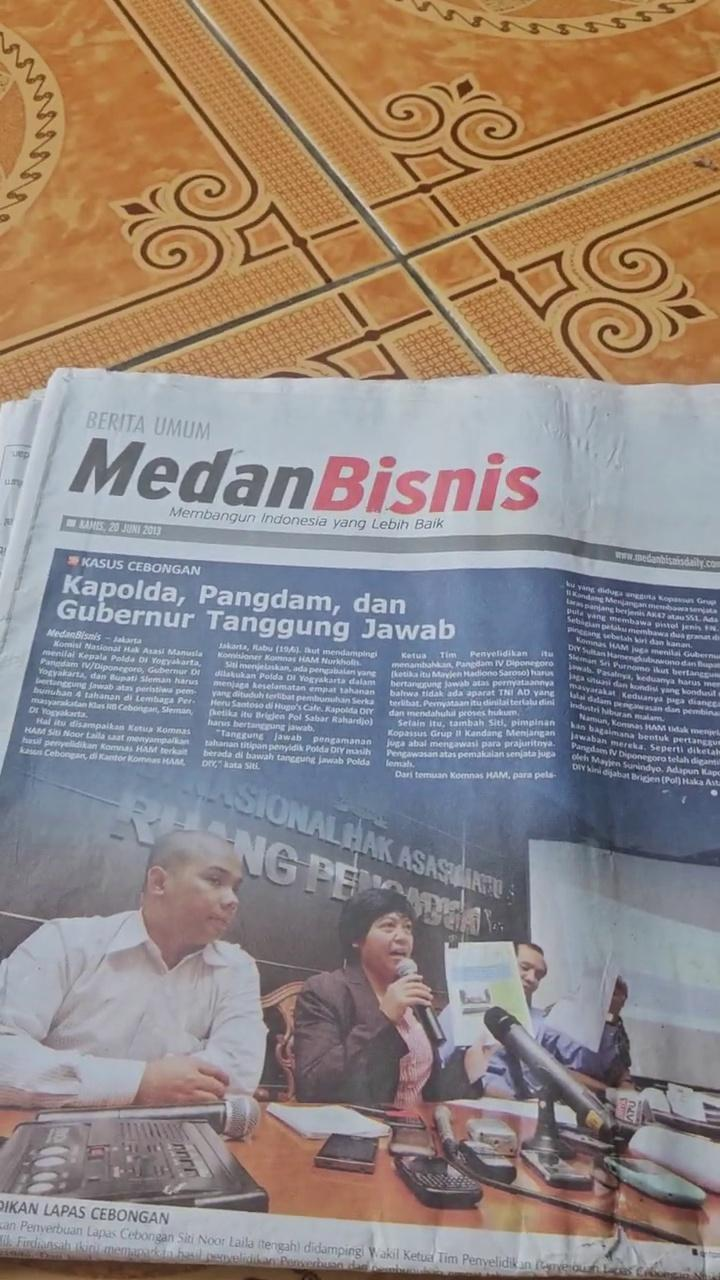Kertas: (0, 400, 708, 1280)
